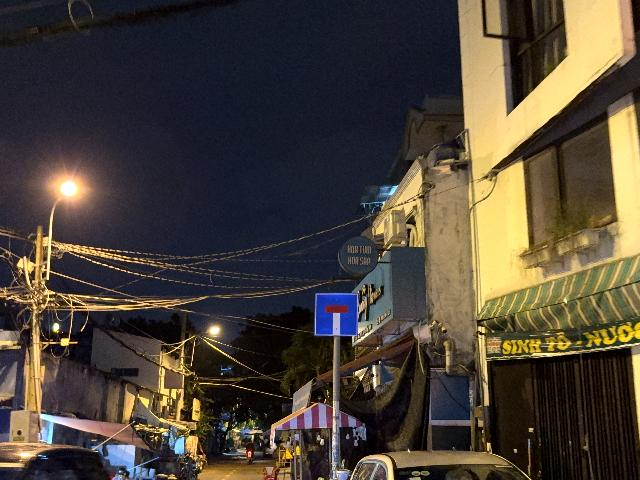duong-cut: (315, 293, 358, 336)
